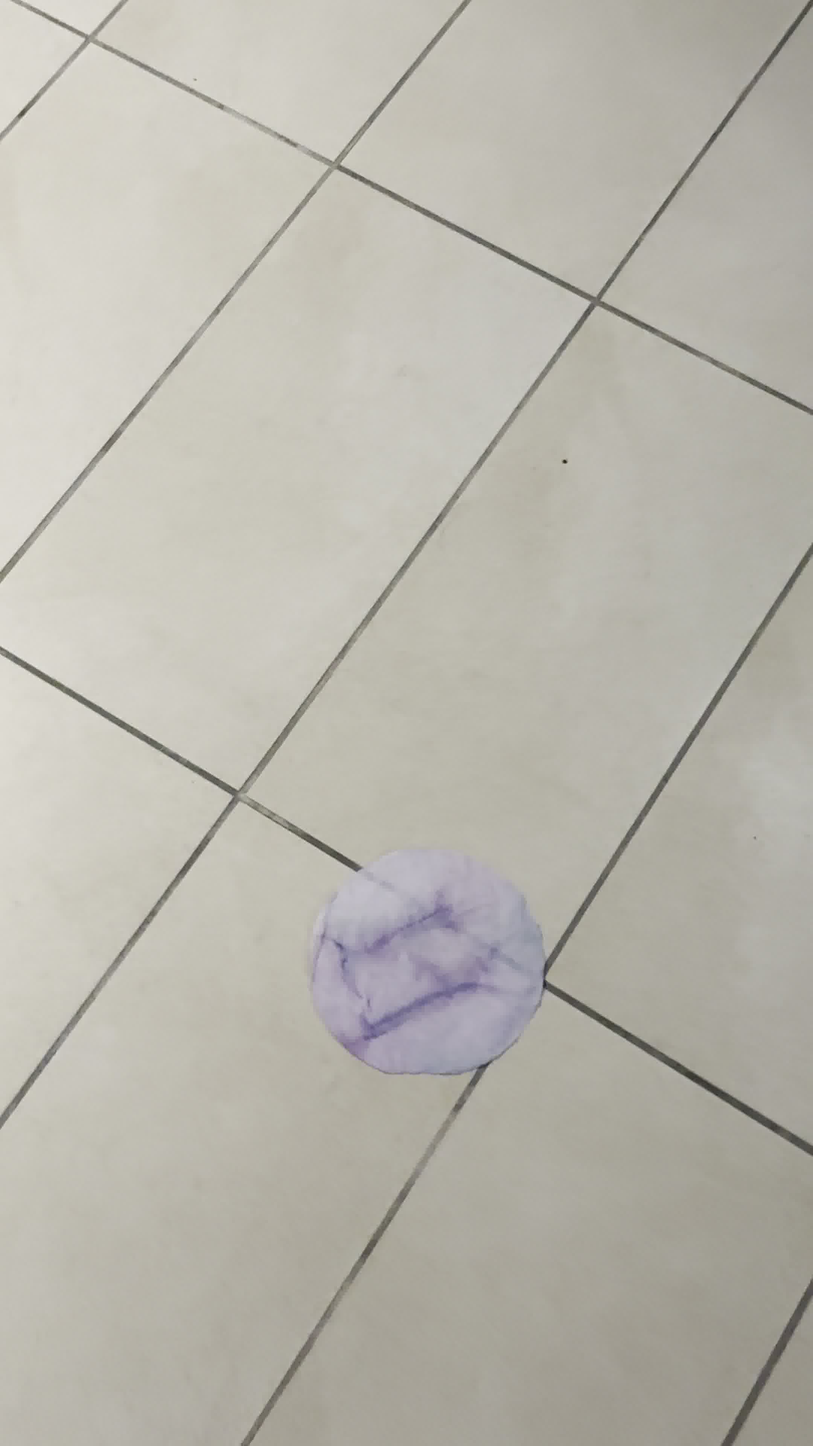Target: (306, 847, 543, 1078)
